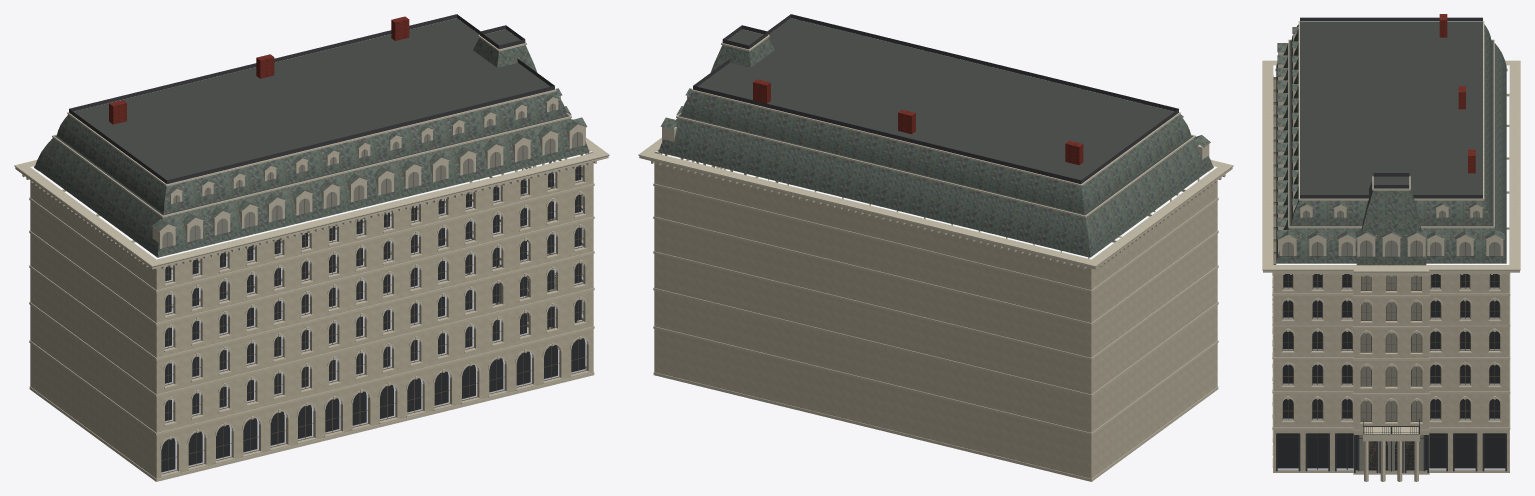
The model's file is palmer_house_1871__hotel_1870_1871.glb.
3 views of the same model, side by side, from view 1: azimuth 30°, elevation 25°; view 2: azimuth 150°, elevation 25°; view 3: azimuth 270°, elevation 25° (orthographic). The views are drawn at different scales.
Parts seen in each view (by area): view 1: palmer_house_1871__hotel_1870_1871; view 2: palmer_house_1871__hotel_1870_1871; view 3: palmer_house_1871__hotel_1870_1871.
Boxes of the visible parts, x1,y1,x2,y2 form: palmer_house_1871__hotel_1870_1871: [14, 14, 609, 481]; palmer_house_1871__hotel_1870_1871: [638, 14, 1233, 481]; palmer_house_1871__hotel_1870_1871: [1262, 14, 1520, 481].
Size of the model in its own units: 53.56 by 32.83 by 27.32.
Materials: 10 (4 with a texture image).
